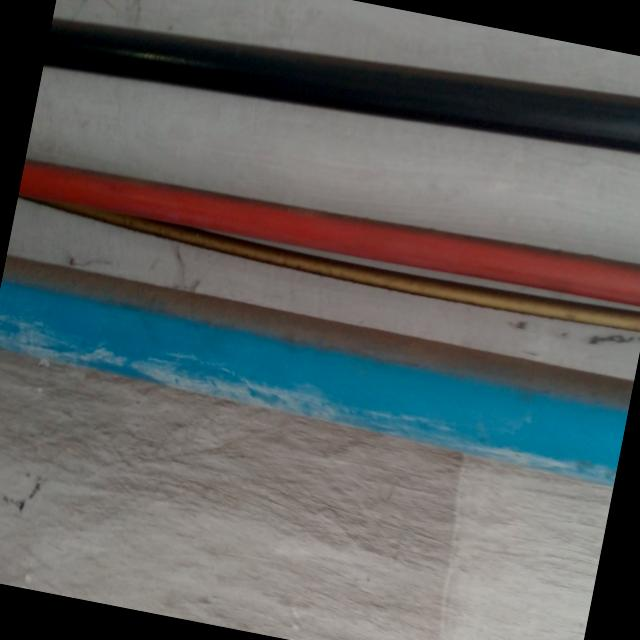gas: (0, 269, 632, 484), (42, 0, 640, 191), (18, 144, 640, 317)
